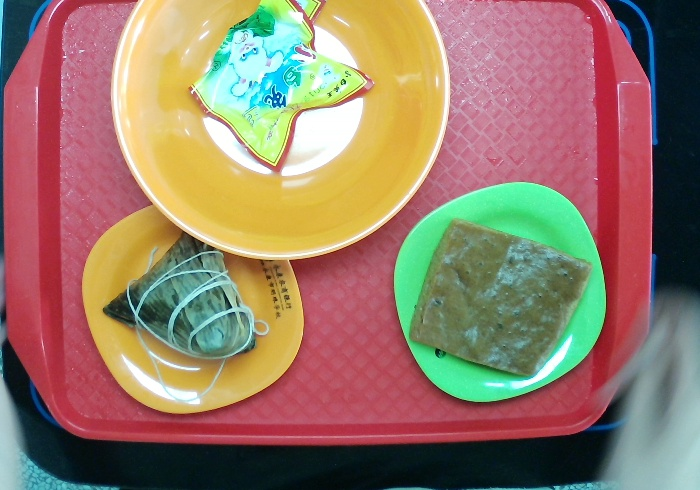YKMZ-Ju_Se_Fang_Die: (80, 204, 307, 416)
YKMZ-Ju_Se_Tang_Wan: (110, 1, 451, 261)
YKMZ-Lv_Se_Fang_Die: (391, 180, 610, 405)
